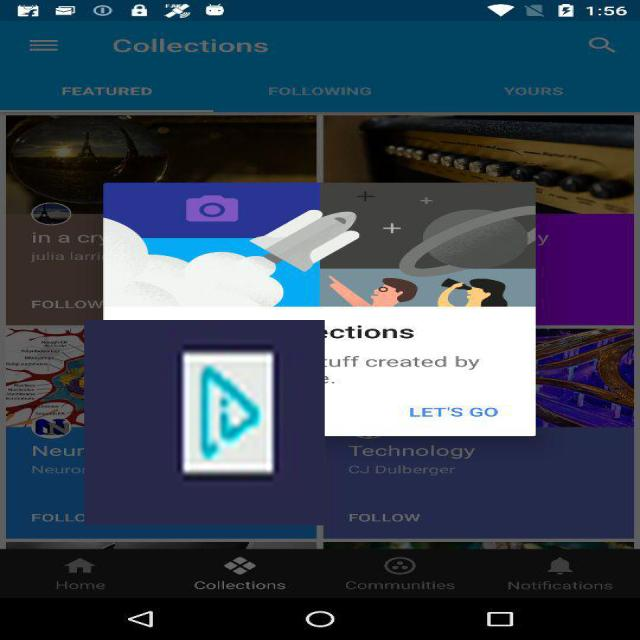sneaking: (84, 320, 325, 525)
